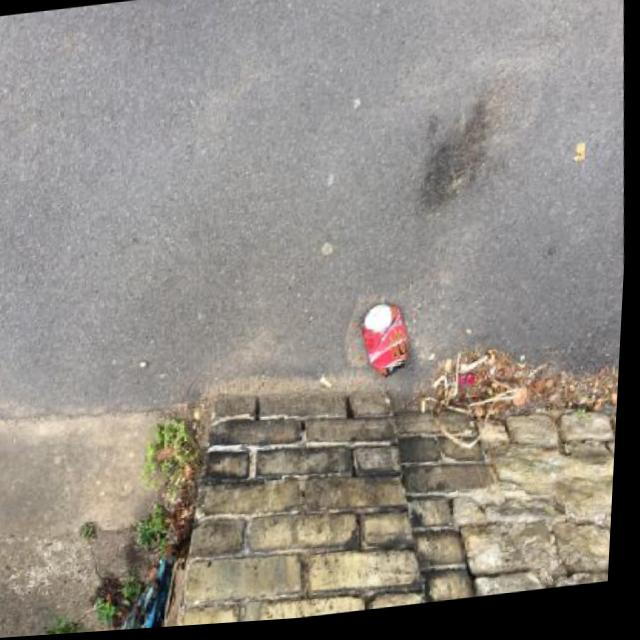metal: (357, 300, 411, 382)
